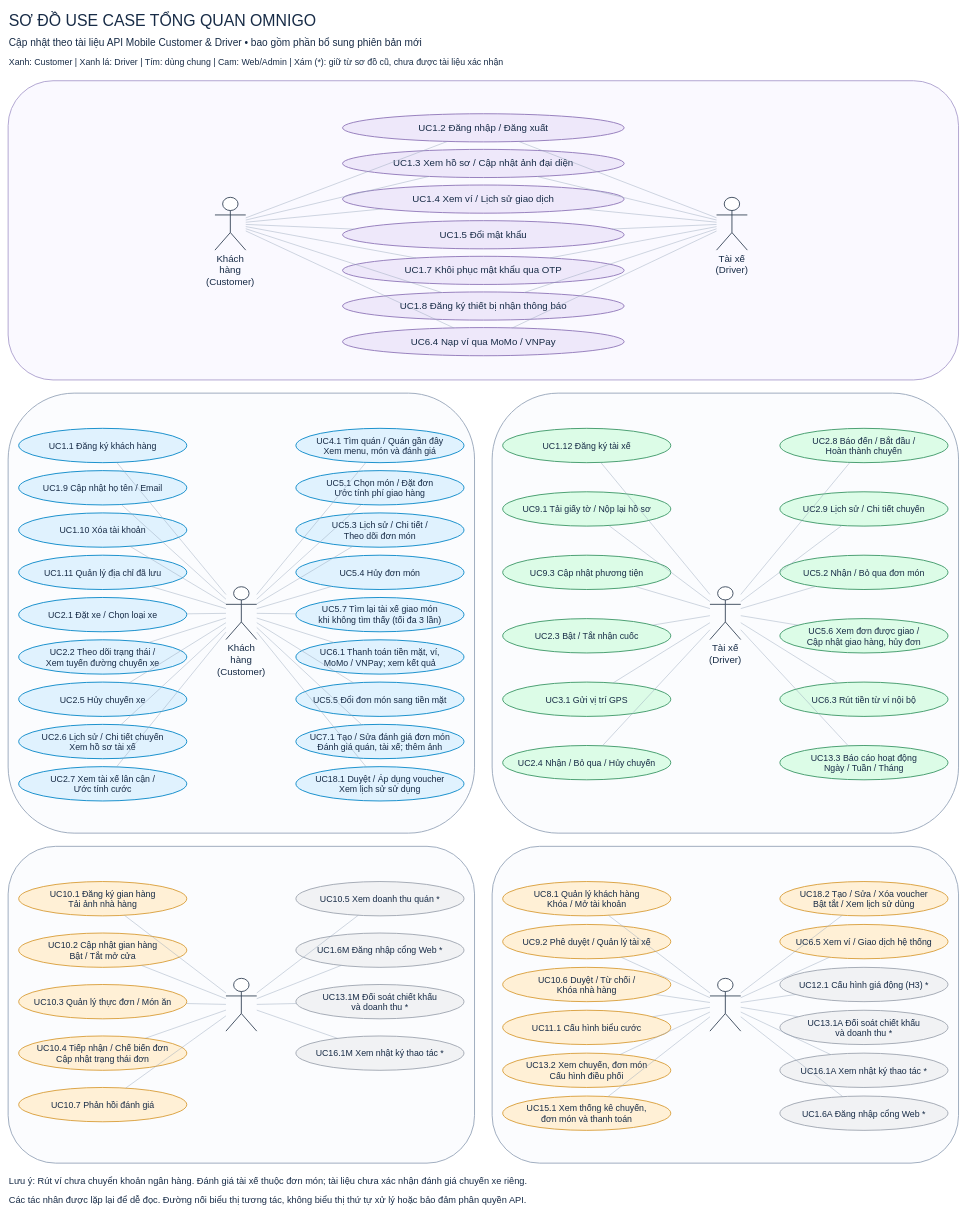
Image size: 966x1216. Some labels were removed from this diagram. Here are the shapes that lost their labels. From the top down, the box of each, then its label:
(7, 80, 959, 380): HỆ THỐNG OMNIGO — CHỨC NĂNG DÙNG CHUNG TRÊN MOBILE
(7, 392, 475, 833): MOBILE — KHÁCH HÀNG
(491, 392, 959, 833): MOBILE — TÀI XẾ ĐỐI TÁC
(225, 978, 257, 1031): Nhà hàng (Merchant)
(7, 846, 475, 1163): WEB PORTAL — ĐỐI TÁC NHÀ HÀNG
(709, 978, 741, 1031): Quản trị viên (Admin)
(491, 846, 959, 1163): QUẢN TRỊ VẬN HÀNH — ADMIN
